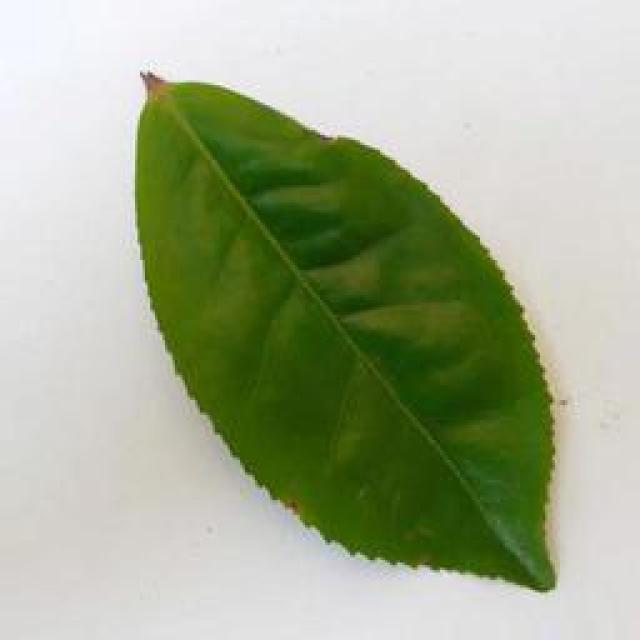Healthy: (126, 58, 564, 595)
